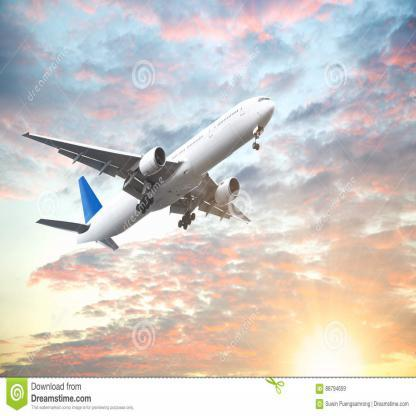CIV_Plane: (18, 93, 278, 256)
